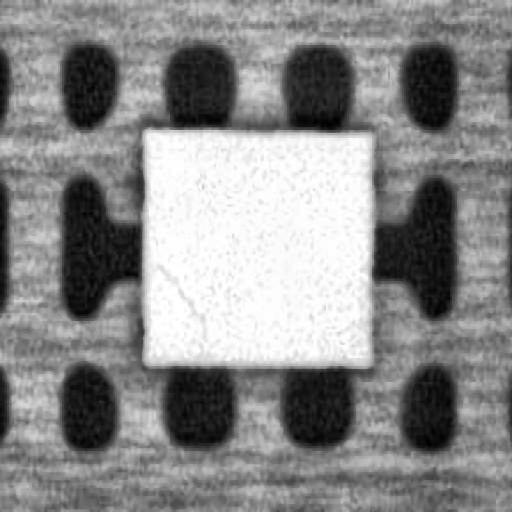DIE_CRACK: (152, 260, 208, 332)
